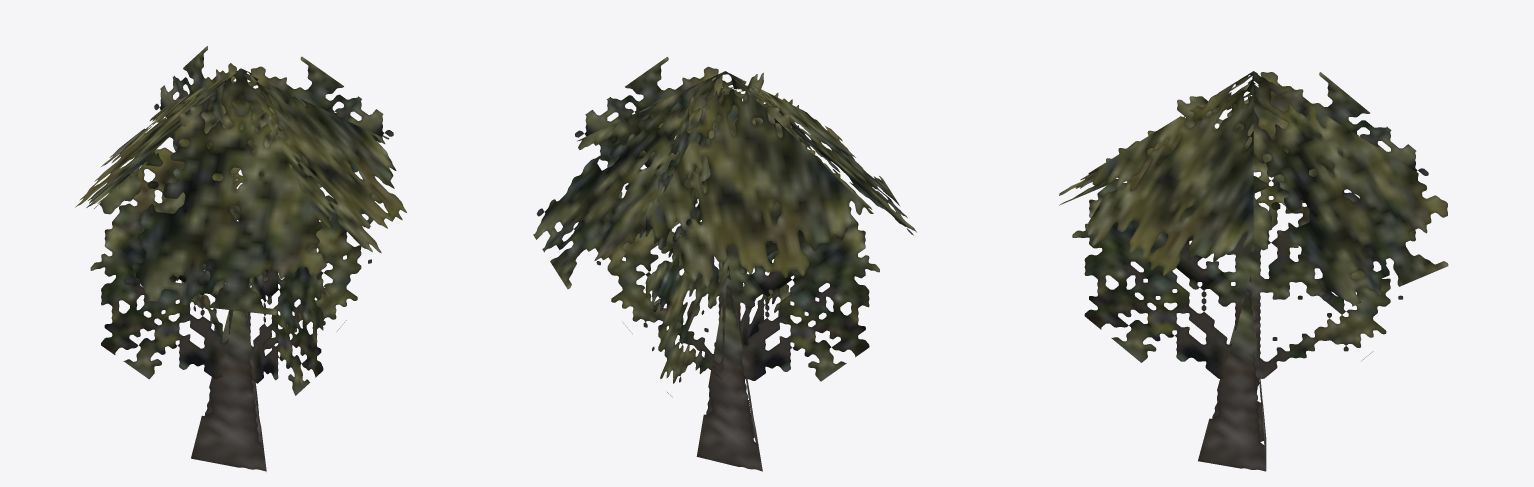
3 views of the same model, side by side, from view 1: azimuth 30°, elevation 25°; view 2: azimuth 150°, elevation 25°; view 3: azimuth 270°, elevation 25° (orthographic).
Visible parts, largest first — view 1: TC1_1; view 2: TC1_1; view 3: TC1_1.
Part boxes in pixels (x1,y1,x2,y2): TC1_1: (75, 46, 406, 471); TC1_1: (533, 57, 916, 471); TC1_1: (1059, 71, 1448, 471).
Bounding box in the file's own units: 25.92 × 24.01 × 26.05.
Materials: 1 (1 with a texture image).
